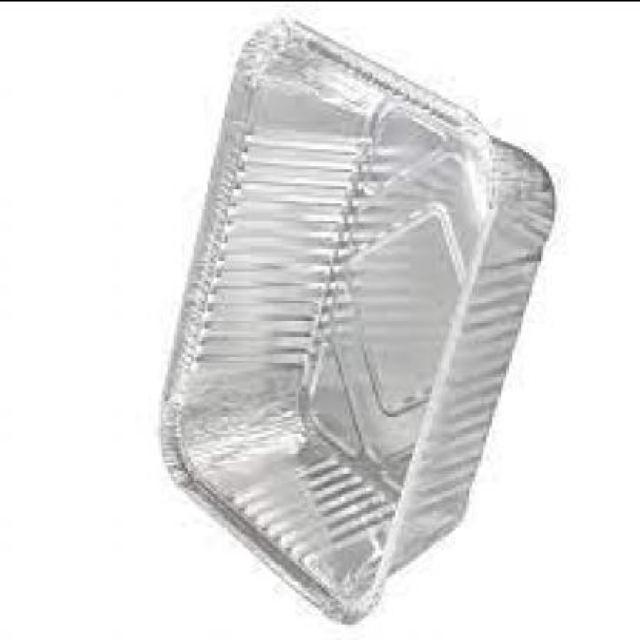METAL: (154, 20, 554, 626)
